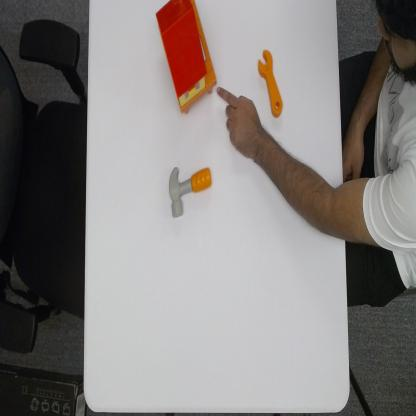Arm: (267, 132, 411, 249)
Hammer: (168, 165, 214, 221)
Hand: (217, 86, 266, 161)
House: (154, 0, 218, 117)
Screwdriver: (257, 47, 285, 119)
